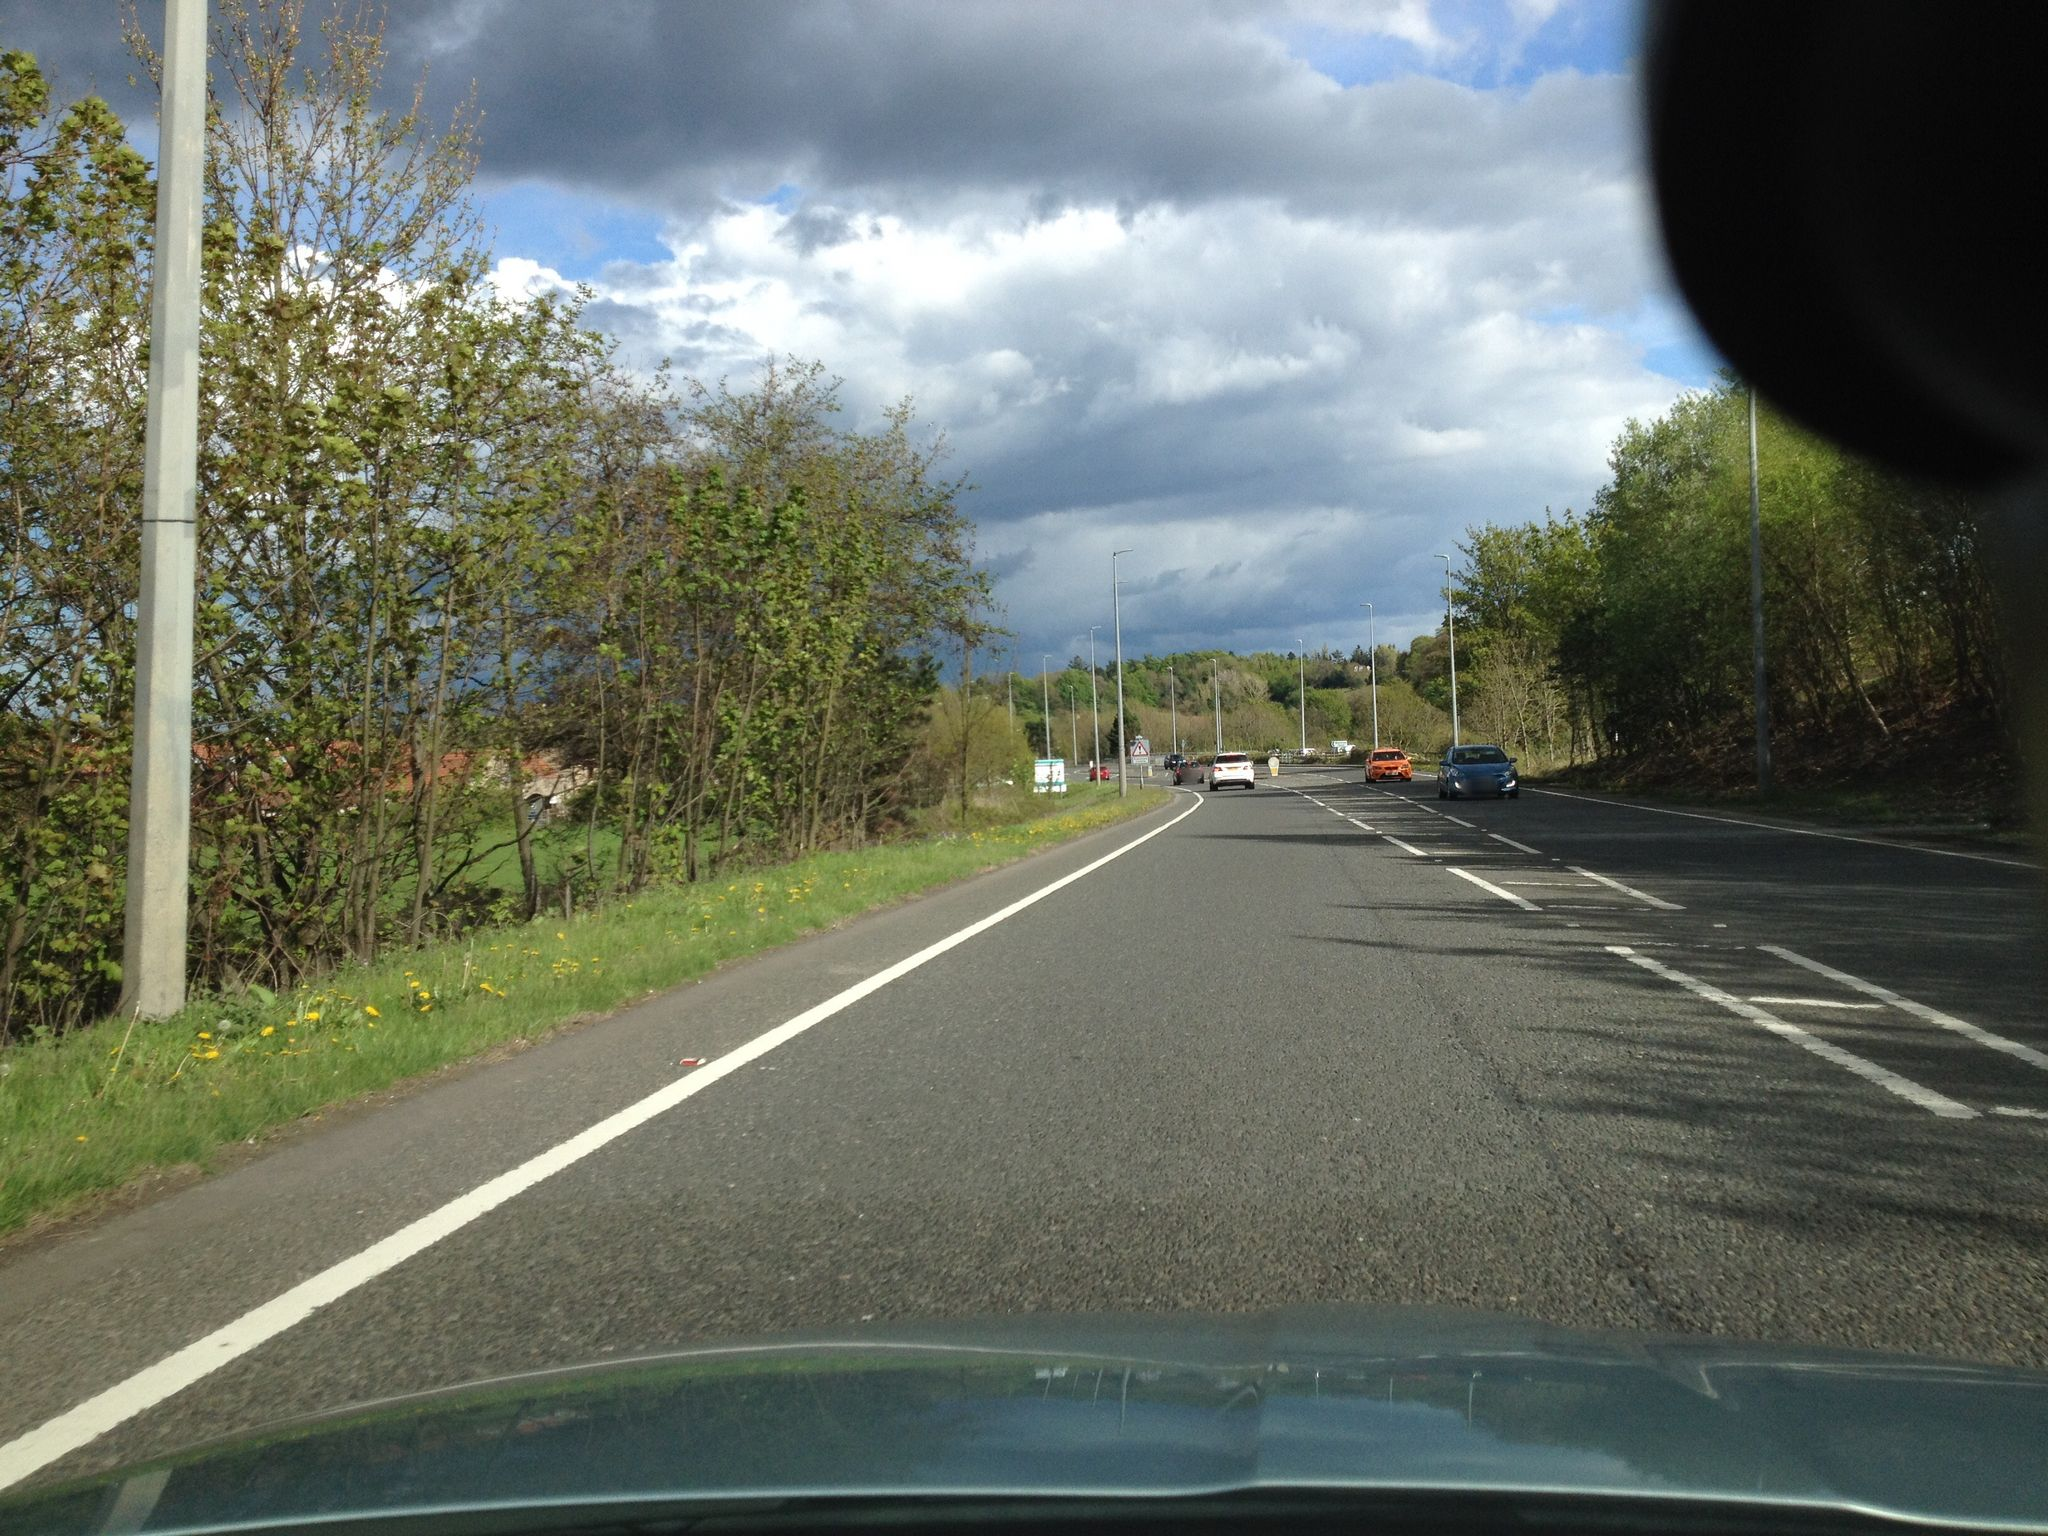car: (1435, 744, 1519, 800), (1208, 750, 1255, 791), (1364, 749, 1413, 781), (1172, 758, 1205, 784), (1163, 753, 1185, 770), (1089, 766, 1109, 779)
